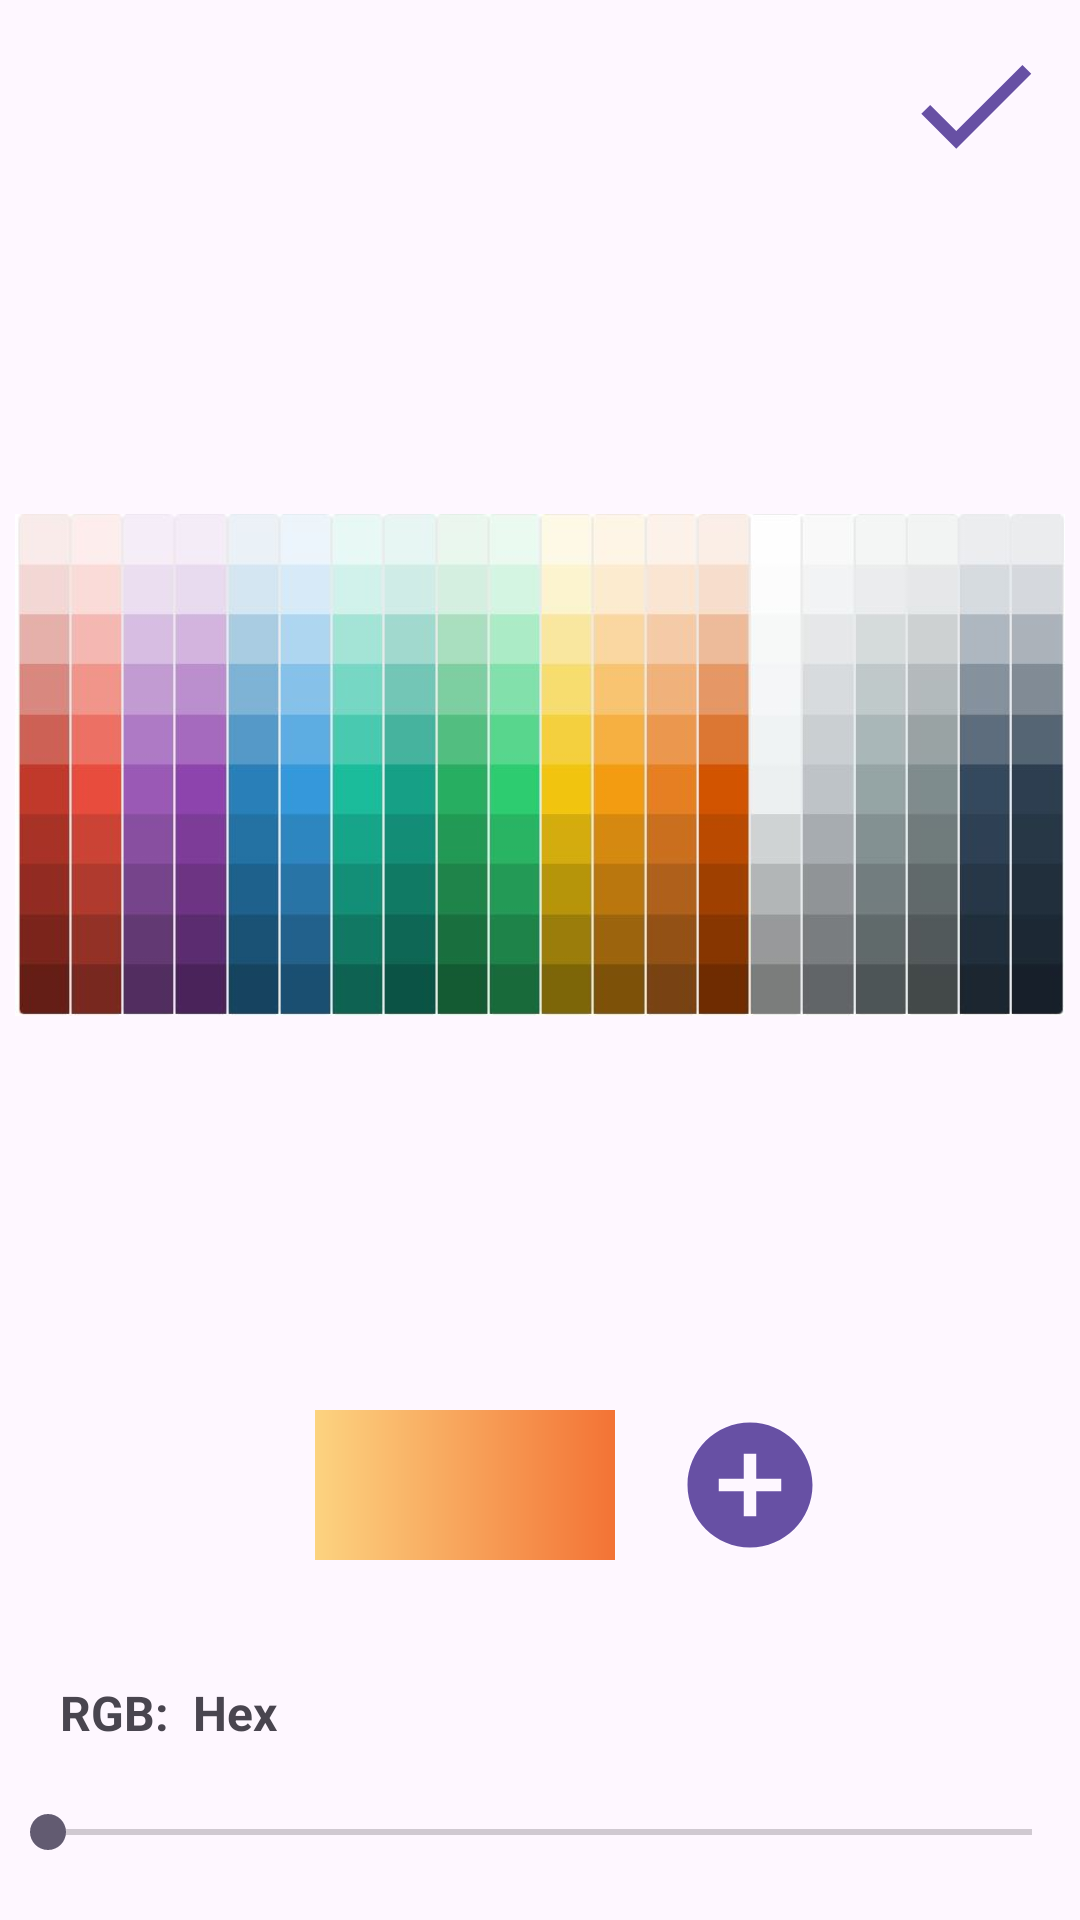

Screen size 1080*1920. Icon name, then its box in pixels as (x1, y1, x2, y2):
add: (687, 1422, 813, 1548)
check: (921, 65, 1031, 149)
